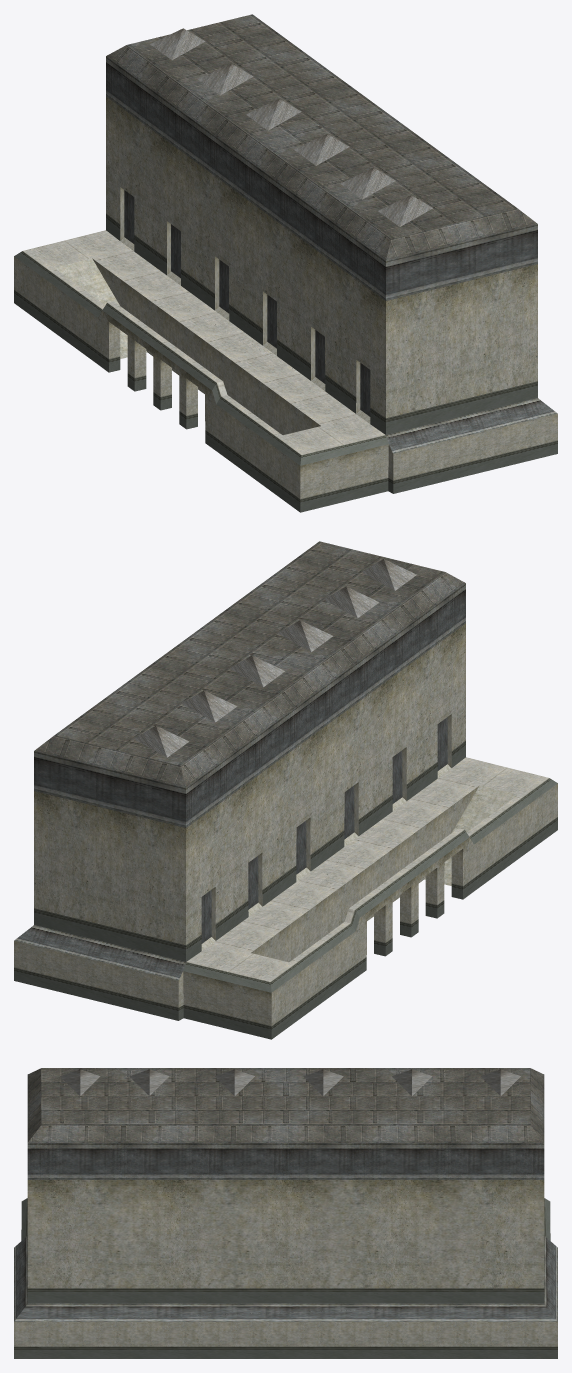
Rendered from thm_corl_imprv_slum_16x32_s02_l3.fbx.
3 views of the same model, one above another, from view 1: azimuth 30°, elevation 25°; view 2: azimuth 150°, elevation 25°; view 3: azimuth 270°, elevation 25° (orthographic). The views are drawn at different scales.
Parts seen in each view (by area): view 1: mesh_node; view 2: mesh_node; view 3: mesh_node.
Boxes of the visible parts, x1,y1,x2,y2 form: mesh_node: [14, 14, 557, 512]; mesh_node: [14, 541, 557, 1039]; mesh_node: [14, 1068, 557, 1358].
Size of the model in its own units: 15.86 by 15.51 by 31.9.
